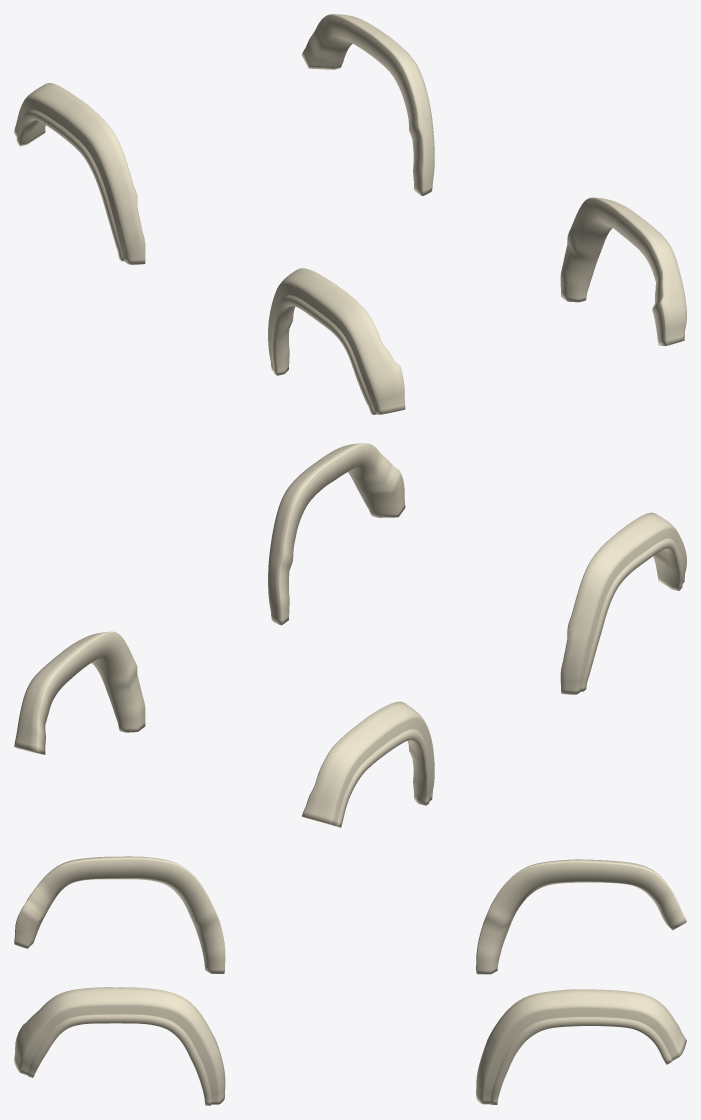
File: fender_damd_little_g_t2_paint.glb
3 views of the same model, one above another, from view 1: azimuth 30°, elevation 25°; view 2: azimuth 150°, elevation 25°; view 3: azimuth 270°, elevation 25° (orthographic). The views are drawn at different scales.
Parts seen in each view (by area): view 1: front-1.009, rear-1.009, front1.009, rear1.009; view 2: front-1.009, front1.009, rear-1.009, rear1.009; view 3: front1.009, rear1.009, front-1.009, rear-1.009.
Part boxes in pixels (x1,y1,x2,y2): front-1.009: [268, 268, 405, 414]; rear-1.009: [14, 83, 145, 264]; front1.009: [560, 197, 686, 345]; rear1.009: [301, 14, 434, 195]; front-1.009: [560, 512, 686, 694]; front1.009: [268, 443, 405, 625]; rear-1.009: [301, 701, 434, 827]; rear1.009: [14, 631, 145, 754]; front1.009: [14, 987, 225, 1105]; rear1.009: [476, 989, 686, 1104]; front-1.009: [14, 856, 225, 973]; rear-1.009: [476, 859, 686, 974].
Bounding box in the file's own units: 1.62 × 0.5778 × 3.1.
